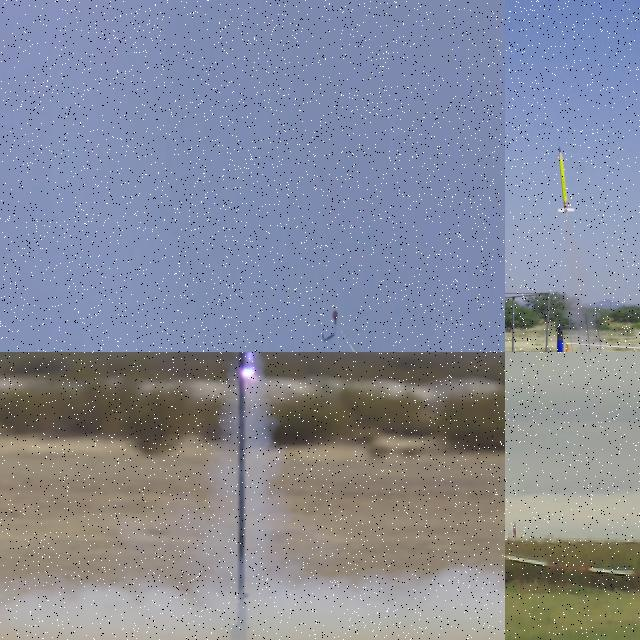Rocket: (556, 146, 576, 216), (548, 320, 571, 352)
